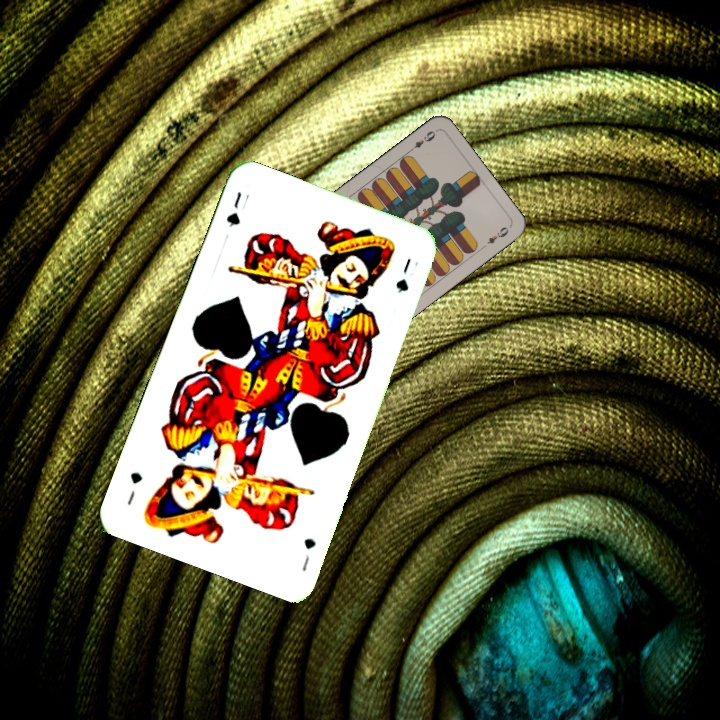E9: (404, 126, 439, 155)
GU: (222, 187, 244, 230), (297, 533, 319, 574)
